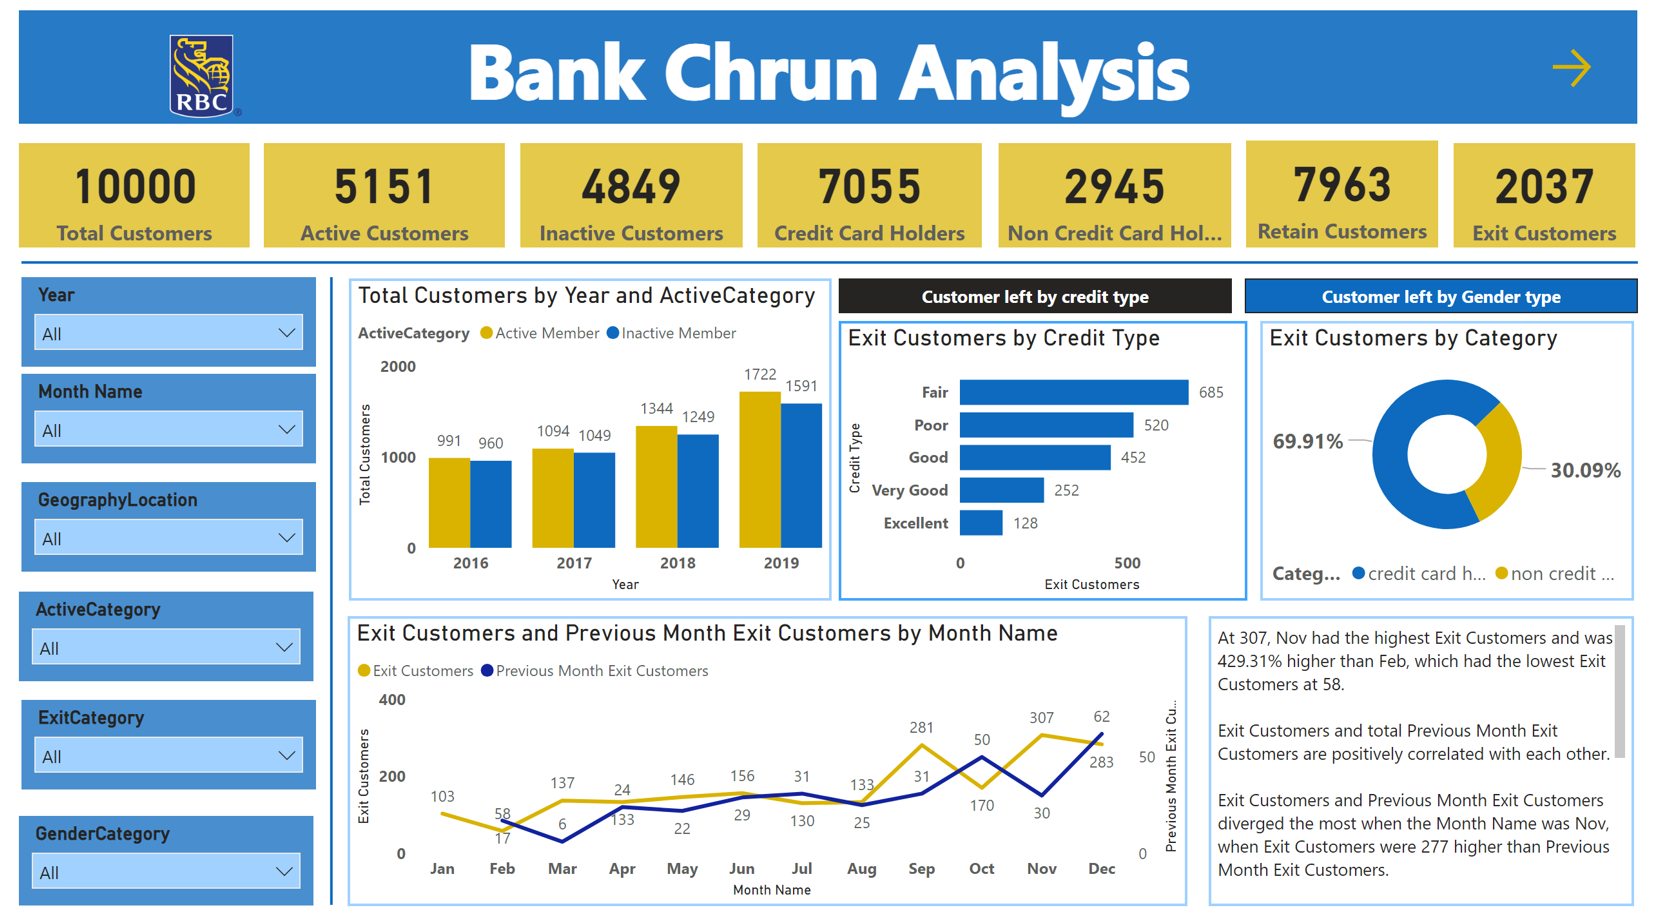

The page's visual inventory and layout, read from the dashboard file:
{"tool":"powerbi","page":{"name":"Homepage","canvas":[1280,720],"ordinal":0},"visuals":[{"type":"textbox","box":[9.9,0,1270.8,83.4],"z":0},{"type":"textbox","box":[9.9,8.3,1255.6,87.8],"z":1000},{"type":"image","box":[84.5,21.5,142.5,74.5],"z":2000},{"type":"card","fields":{"Values":["Calculation.Total Customers"]},"box":[9.9,111,178.9,81.2],"z":3000},{"type":"card","fields":{"Values":["Calculation.Active Customers"]},"box":[200.4,111,187.2,81.2],"z":4000},{"type":"card","fields":{"Values":["Calculation.Credit Card Holders"]},"box":[583.1,111,173.9,81.2],"z":5000},{"type":"card","fields":{"Values":["Calculation.Non Credit Card Holders"]},"box":[770.3,111,180.6,81.2],"z":6000},{"type":"card","fields":{"Values":["Calculation.Inactive Customers"]},"box":[399.2,111,172.3,81.2],"z":7000},{"type":"card","fields":{"Values":["Calculation.Retain Customers"]},"box":[962.4,109.3,149.1,82.8],"z":8000},{"type":"card","fields":{"Values":["Calculation.Exit Customers"]},"box":[1123.1,111,140.8,81.2],"z":9000},{"type":"shape","box":[11.6,192.2,1254,23.2],"z":10000},{"type":"shape","box":[240.2,215.3,24.8,487],"z":11000},{"type":"slicer","fields":{"Values":["DateMaster.Year"]},"box":[11.6,215.3,228.6,69.6],"z":12000},{"type":"slicer","fields":{"Values":["ExitCustomer.ExitCategory"]},"box":[11.6,543.3,228.6,69.6],"z":13000},{"type":"slicer","fields":{"Values":["Gender.GenderCategory"]},"box":[9.9,632.8,228.6,69.6],"z":14000},{"type":"slicer","fields":{"Values":["DateMaster.MonthName"]},"box":[11.6,289.9,228.6,69.6],"z":15000},{"type":"slicer","fields":{"Values":["Geography.GeographyLocation"]},"box":[11.6,374.4,228.6,69.6],"z":16000},{"type":"slicer","fields":{"Values":["ActiveCustomer.ActiveCategory"]},"box":[9.9,458.8,228.6,69.6],"z":17000},{"type":"clusteredColumnChart","fields":{"Category":["DateMaster.Year","DateMaster.Month"],"Y":["Calculation.Total Customers"],"Series":["ActiveCustomer.ActiveCategory"]},"box":[265.7,215.7,374.3,250],"z":18000},{"type":"barChart","fields":{"Y":["Calculation.Exit Customers"],"Category":["Bank_Churn.Credit Type"]},"box":[645.7,248.6,317.1,217.1],"z":20000},{"type":"pieChart","fields":{"Category":["CreditCard.Category"],"Y":["Calculation.Exit Customers"]},"box":[972.9,248.6,290,217.1],"z":21000},{"type":"lineChart","fields":{"Y":["Calculation.Exit Customers"],"Y2":["Calculation.Previous Month Exit Customers"],"Category":["DateMaster.Month Name"]},"box":[265,478.3,651.7,225],"z":22000},{"type":"textbox","box":[933.3,478.3,330,225],"z":23000},{"type":"actionButton","box":[1194.3,33.1,53,39.8],"z":24000},{"type":"bookmarkNavigator","box":[645.7,215.7,620,27.1],"z":25000}]}

Visuals, with their boxes in screenshot pixels (x1, y1, x2, y2), scaled from the page's 1280x720 canvas onto the 1660x918 screenshot:
textbox: [x1=13, y1=0, x2=1659, y2=106]
textbox: [x1=13, y1=11, x2=1641, y2=123]
image: [x1=110, y1=27, x2=294, y2=122]
card - Calculation.Total Customers: [x1=13, y1=142, x2=245, y2=245]
card - Calculation.Active Customers: [x1=260, y1=142, x2=503, y2=245]
card - Calculation.Credit Card Holders: [x1=756, y1=142, x2=982, y2=245]
card - Calculation.Non Credit Card Holders: [x1=999, y1=142, x2=1233, y2=245]
card - Calculation.Inactive Customers: [x1=518, y1=142, x2=741, y2=245]
card - Calculation.Retain Customers: [x1=1248, y1=139, x2=1441, y2=245]
card - Calculation.Exit Customers: [x1=1457, y1=142, x2=1639, y2=245]
shape: [x1=15, y1=245, x2=1641, y2=275]
shape: [x1=312, y1=275, x2=344, y2=895]
slicer - DateMaster.Year: [x1=15, y1=275, x2=312, y2=363]
slicer - ExitCustomer.ExitCategory: [x1=15, y1=693, x2=312, y2=781]
slicer - Gender.GenderCategory: [x1=13, y1=807, x2=309, y2=896]
slicer - DateMaster.MonthName: [x1=15, y1=370, x2=312, y2=458]
slicer - Geography.GeographyLocation: [x1=15, y1=477, x2=312, y2=566]
slicer - ActiveCustomer.ActiveCategory: [x1=13, y1=585, x2=309, y2=674]
clusteredColumnChart - DateMaster.Year x DateMaster.Month: [x1=345, y1=275, x2=830, y2=594]
barChart - Calculation.Exit Customers x Bank_Churn.Credit Type: [x1=837, y1=317, x2=1249, y2=594]
pieChart - CreditCard.Category x Calculation.Exit Customers: [x1=1262, y1=317, x2=1638, y2=594]
lineChart - Calculation.Exit Customers x Calculation.Previous Month Exit Customers: [x1=344, y1=610, x2=1189, y2=897]
textbox: [x1=1210, y1=610, x2=1638, y2=897]
actionButton: [x1=1549, y1=42, x2=1618, y2=93]
bookmarkNavigator: [x1=837, y1=275, x2=1641, y2=310]
